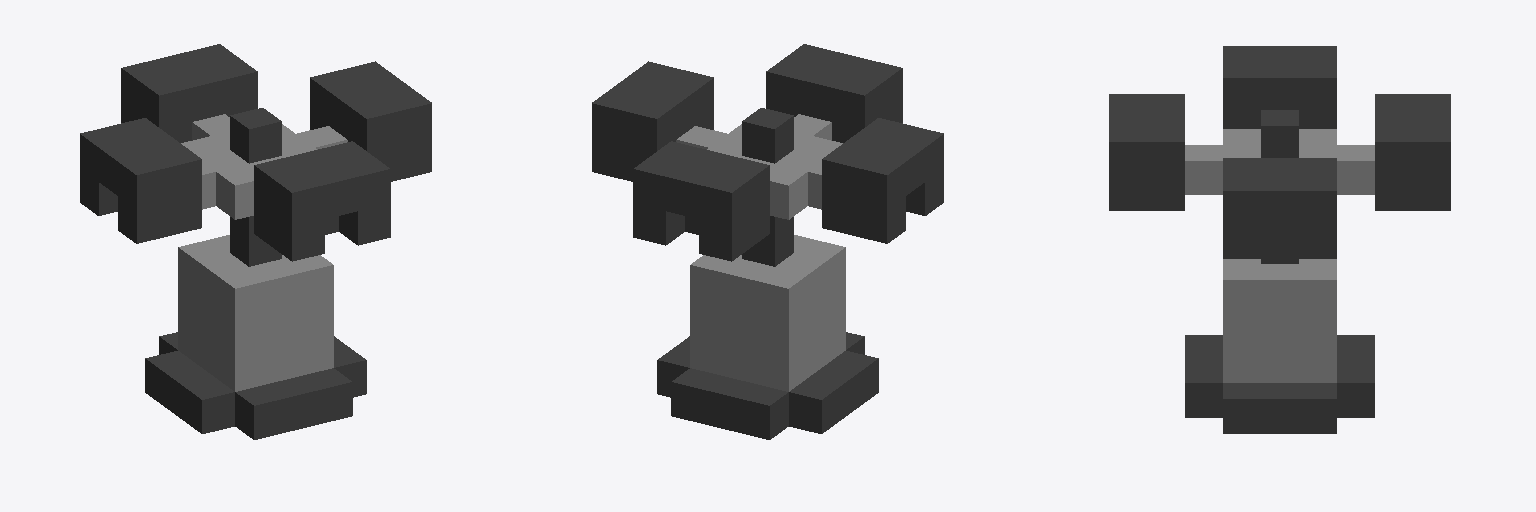
3 views of the same model, side by side, from view 1: azimuth 30°, elevation 25°; view 2: azimuth 150°, elevation 25°; view 3: azimuth 270°, elevation 25° (orthographic).
Parts seen in each view (by area): view 1: carrot_1; view 2: carrot_1; view 3: carrot_1.
Part boxes in pixels (x1,y1,x2,y2): carrot_1: (80,44,431,439); carrot_1: (592,44,943,439); carrot_1: (1109,46,1450,433).
Bounding box in the file's own units: 1.8 × 1.6 × 1.8.
Materials: 1 (1 with a texture image).